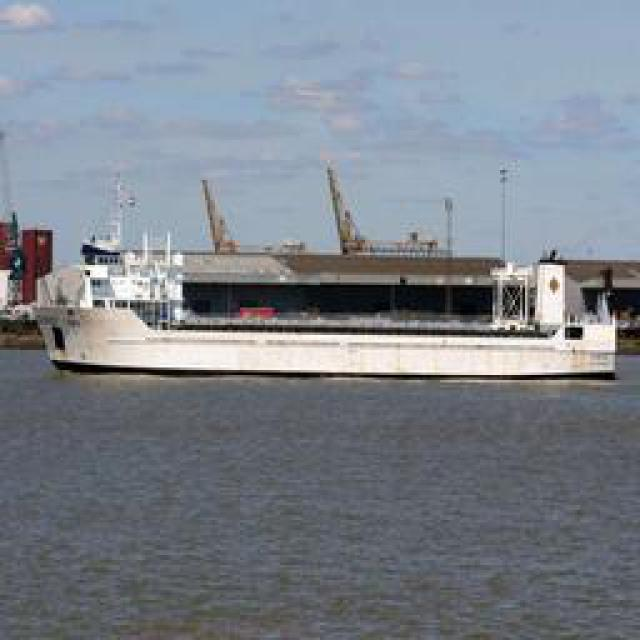Ship: (30, 159, 630, 374)
